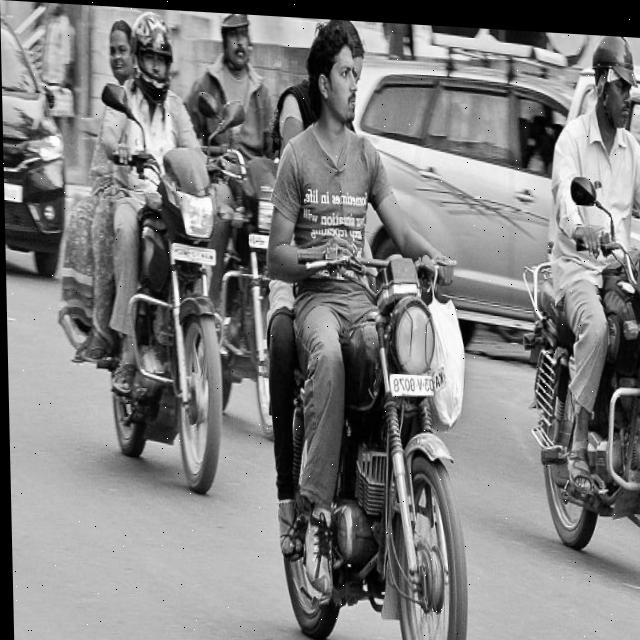without helmet: (308, 16, 358, 131)
